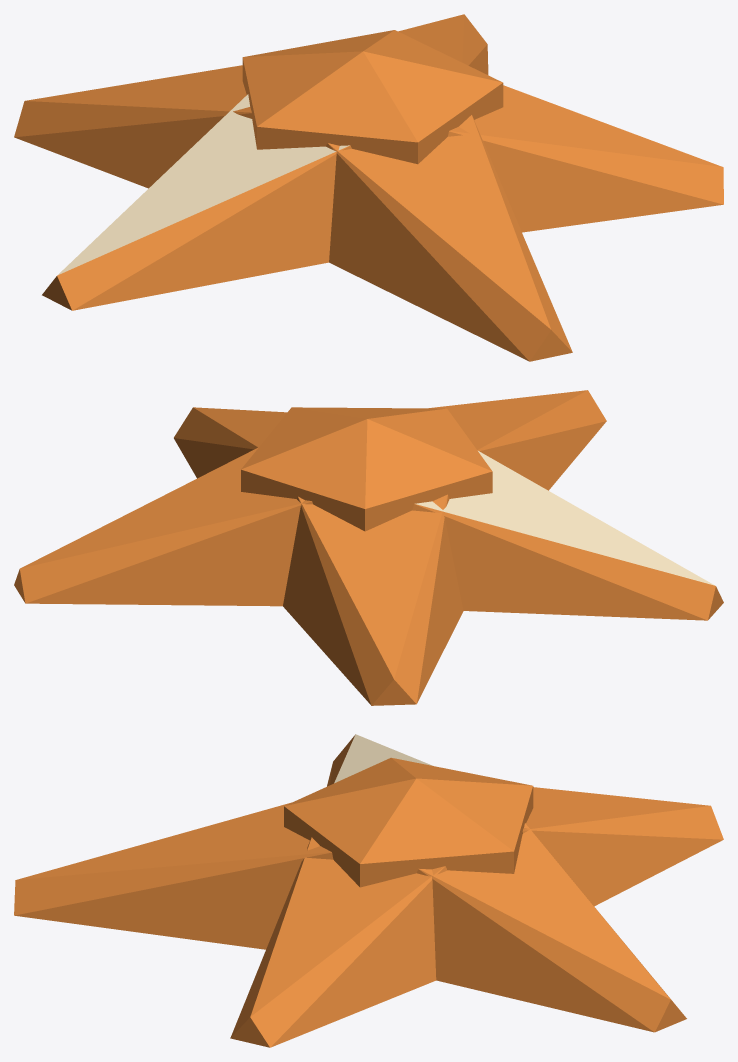
The model's file is Starfish_0.glb.
The picture shows the model from 3 angles, top to bottom: view 1: azimuth 30°, elevation 25°; view 2: azimuth 150°, elevation 25°; view 3: azimuth 270°, elevation 25°; orthographic projection. The views are drawn at different scales.
Parts seen in each view (by area): view 1: Starfish_0; view 2: Starfish_0; view 3: Starfish_0.
Boxes of the visible parts, x1=… form: Starfish_0: x1=14, y1=14, x2=723, y2=361; Starfish_0: x1=14, y1=390, x2=723, y2=705; Starfish_0: x1=14, y1=734, x2=723, y2=1047.
Size of the model in its own units: 0.359 by 0.08 by 0.3724.
